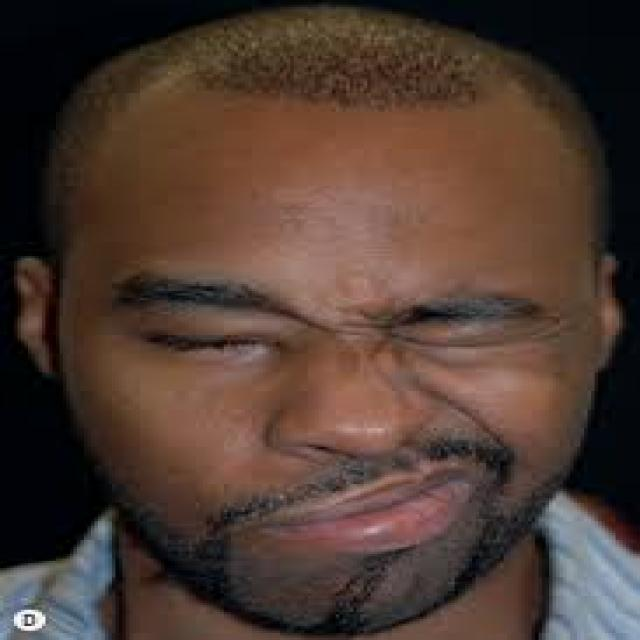stroke_face: (48, 8, 606, 640)
